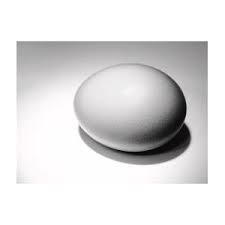eggs: (61, 53, 192, 161)
